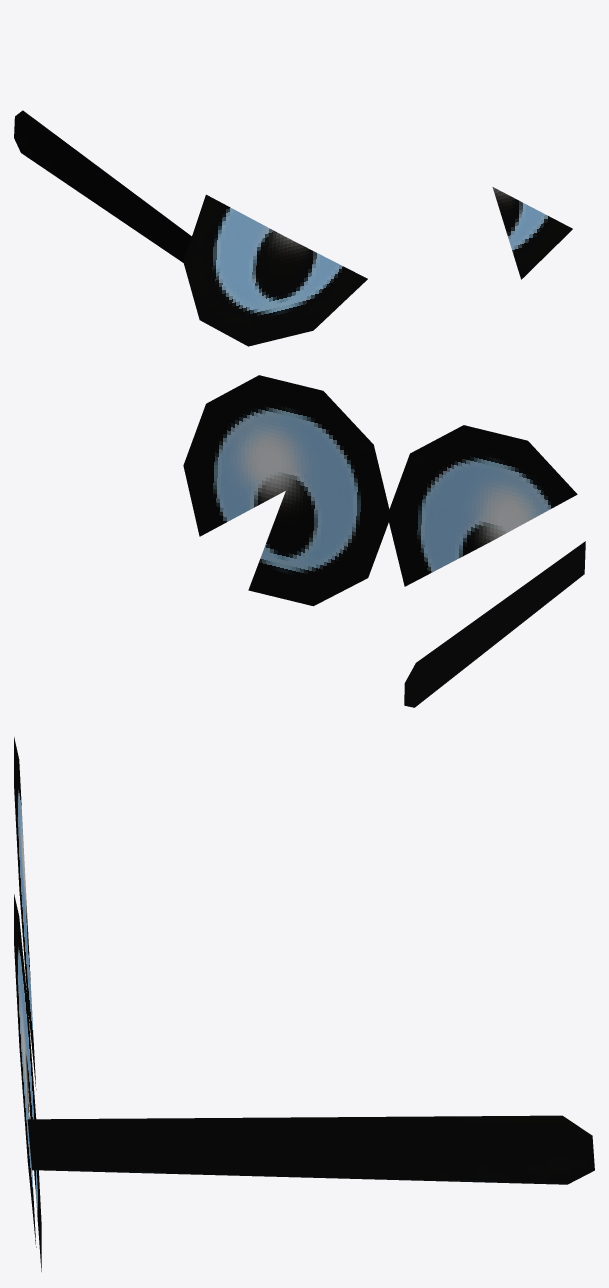
File: tt_m_chr_avt_acc_msk_roundGlasses.glb
3 renders of one model, top to bottom at view 1: azimuth 30°, elevation 25°; view 2: azimuth 150°, elevation 25°; view 3: azimuth 270°, elevation 25°, orthographic. The views are drawn at different scales.
Visible parts, largest first — view 1: roundGlasses; view 2: roundGlasses; view 3: roundGlasses.
Boxes of the visible parts, x1,y1,x2,y2 form: roundGlasses: (14, 110, 572, 346); roundGlasses: (183, 375, 585, 707); roundGlasses: (14, 737, 594, 1271).
Bounding box in the file's own units: 3.41 × 1.66 × 2.65.
1 material, 1 textured.
